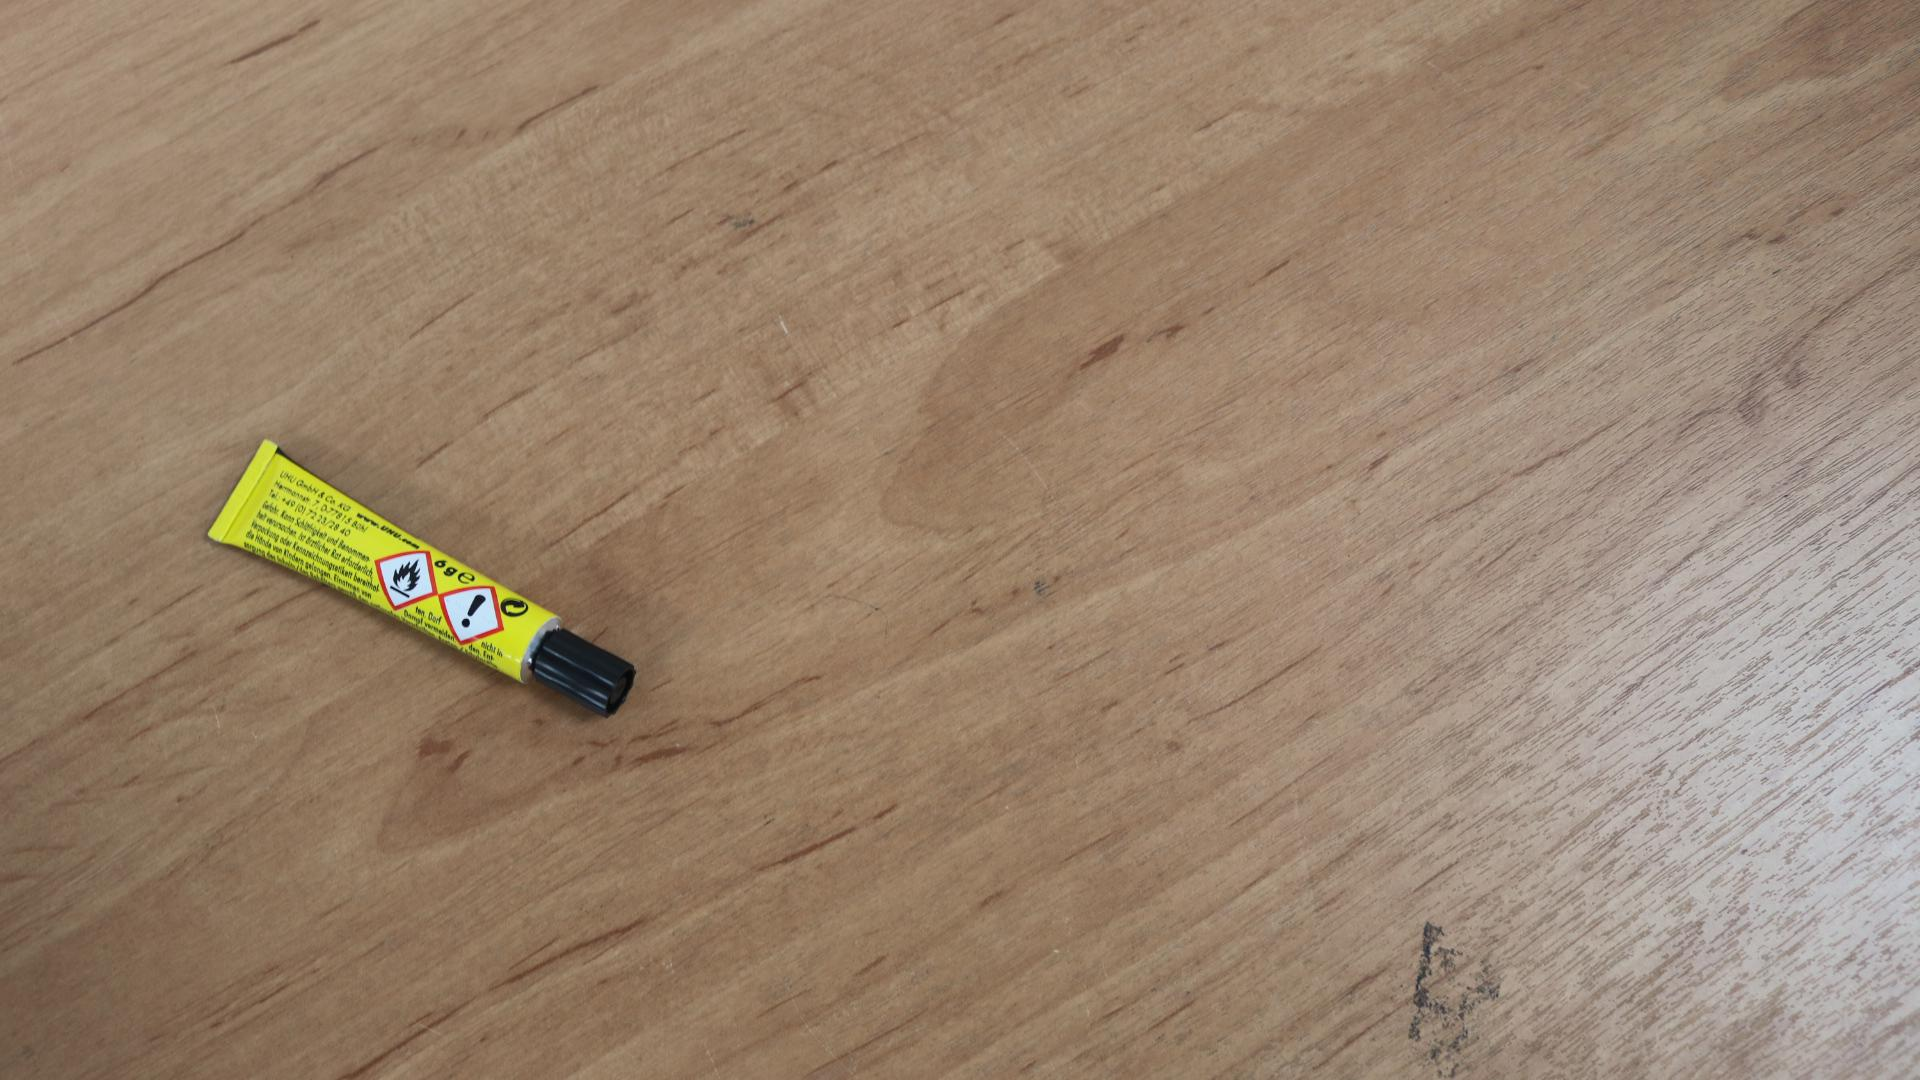Head: (575, 662, 585, 672)
Tail: (236, 490, 246, 501)
Tube: (207, 439, 638, 720)
